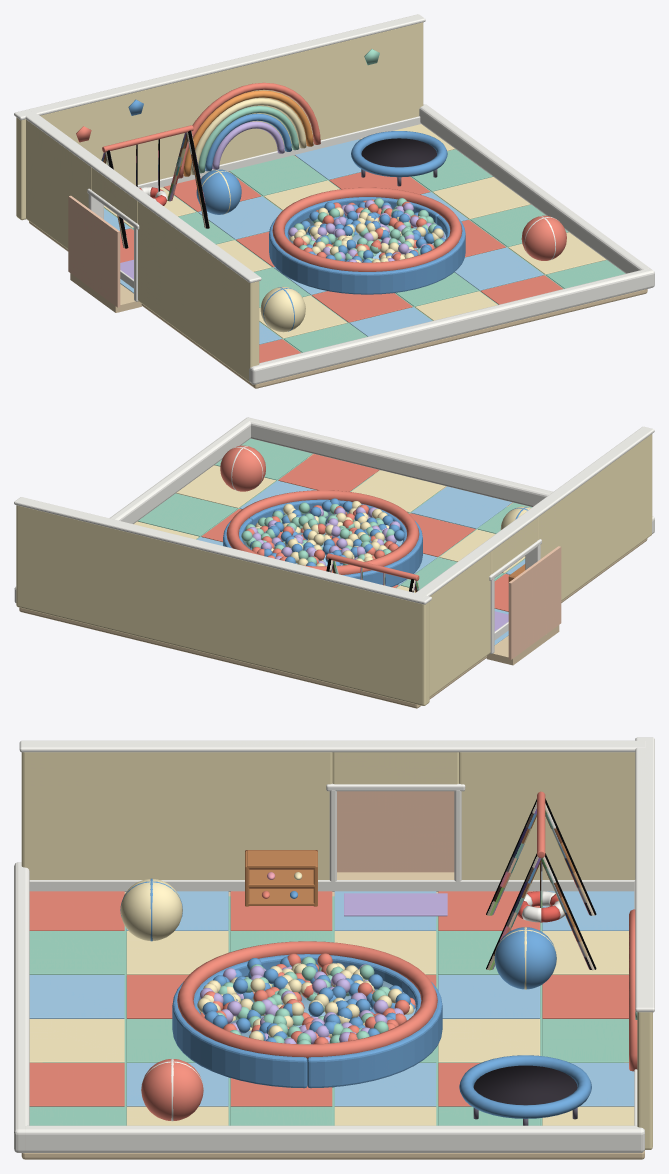
The model's file is room_ballpit.glb.
3 views of the same model, one above another, from view 1: azimuth 30°, elevation 25°; view 2: azimuth 150°, elevation 25°; view 3: azimuth 270°, elevation 25° (orthographic). The views are drawn at different scales.
Visible parts, largest first — view 1: wall_N_0, wall_W_0, floor_mats_mint, floor_mats_lemon, wall_S_low_0, floor_mats_sky, floor_mats_coral, ballpit_wall, wall_W_1, wall_E_low_0, ballpit_rim, doorway_W_view (+25 smaller); view 2: wall_N_0, wall_W_0, wall_S_low_0, wall_W_1, floor_mats_lemon, floor_mats_mint, floor_mats_coral, doorway_W_view, wall_N_cap, floor_mats_sky, ballpit_rim, wall_W_cap (+13 smaller); view 3: wall_W_0, floor_mats_coral, floor_mats_lemon, floor_mats_sky, wall_W_1, floor_mats_mint, wall_E_low_0, ballpit_wall, doorway_W_view, ballpit_rim, wall_W_cap, wall_W_skirting (+29 smaller).
Part boxes in pixels (x1,y1,x2,y2): wall_N_0: [16, 22, 423, 220]; wall_W_0: [137, 201, 259, 382]; floor_mats_mint: [132, 149, 625, 352]; floor_mats_lemon: [104, 124, 606, 338]; wall_S_low_0: [249, 268, 654, 384]; floor_mats_sky: [104, 139, 543, 344]; floor_mats_coral: [120, 171, 562, 362]; ballpit_wall: [269, 197, 465, 294]; wall_W_1: [26, 119, 91, 249]; wall_E_low_0: [419, 104, 649, 273]; ballpit_rim: [272, 187, 462, 271]; doorway_W_view: [68, 195, 120, 307]; wall_N_0: [16, 505, 429, 705]; wall_W_0: [537, 434, 652, 600]; wall_S_low_0: [244, 417, 654, 533]; wall_W_1: [429, 552, 490, 697]; floor_mats_lemon: [134, 465, 525, 592]; floor_mats_mint: [137, 438, 531, 589]; floor_mats_coral: [201, 454, 509, 611]; doorway_W_view: [508, 546, 561, 659]; wall_N_cap: [14, 497, 431, 604]; floor_mats_sky: [197, 480, 525, 645]; ballpit_rim: [226, 490, 419, 574]; wall_W_cap: [413, 426, 654, 597]; wall_W_0: [21, 752, 332, 879]; floor_mats_coral: [29, 891, 628, 1106]; floor_mats_lemon: [29, 931, 634, 1125]; floor_mats_sky: [29, 891, 634, 1106]; wall_W_1: [459, 752, 635, 879]; floor_mats_mint: [29, 931, 628, 1125]; wall_E_low_0: [25, 1125, 644, 1152]; ballpit_wall: [172, 954, 442, 1088]; doorway_W_view: [337, 791, 454, 872]; ballpit_rim: [177, 941, 437, 1059]; wall_W_cap: [19, 740, 645, 752]; wall_W_skirting: [29, 880, 634, 891].
Size of the model in its own units: 6.47 by 1.63 by 6.17.
Materials: 1 (1 with a texture image).
